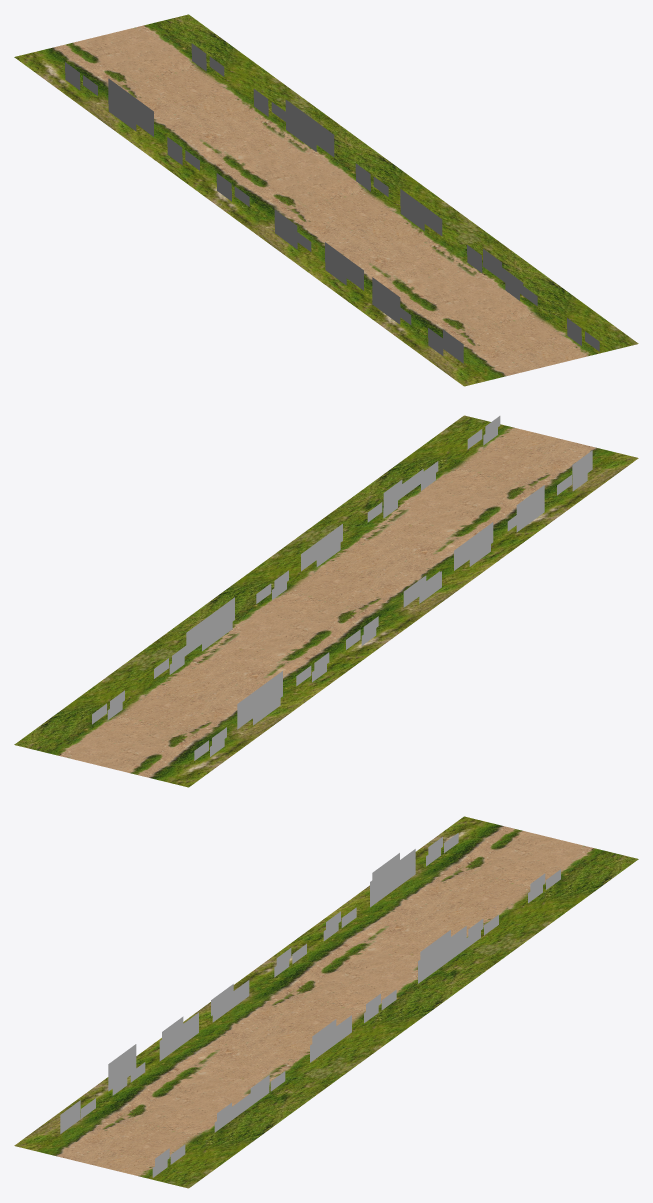
File: SM_Path Grass.FBX
3 views of the same model, one above another, from view 1: azimuth 30°, elevation 25°; view 2: azimuth 150°, elevation 25°; view 3: azimuth 330°, elevation 25° (orthographic).
Parts seen in each view (by area): view 1: SM_Path Grass; view 2: SM_Path Grass; view 3: SM_Path Grass.
Part boxes in pixels (left/top/right/bottom): SM_Path Grass: left=14, top=14, right=638, bottom=386; SM_Path Grass: left=14, top=415, right=638, bottom=787; SM_Path Grass: left=14, top=816, right=638, bottom=1188.
Size of the model in its own units: 75.63 by 12.77 by 337.
